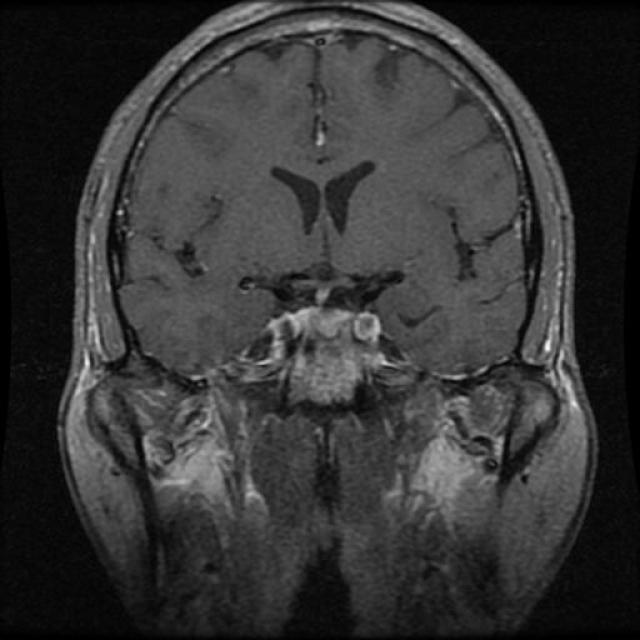pituitary: (246, 270, 414, 354)
